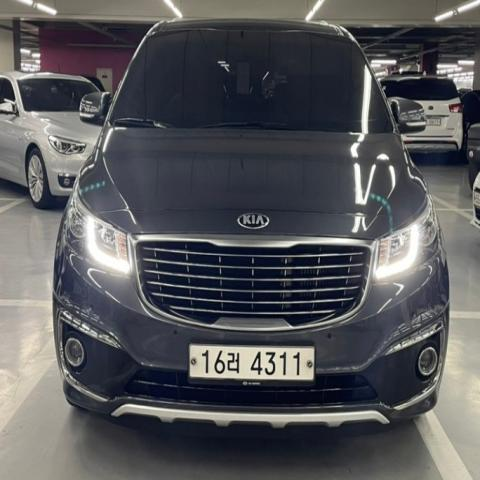LP: (183, 338, 324, 398)
